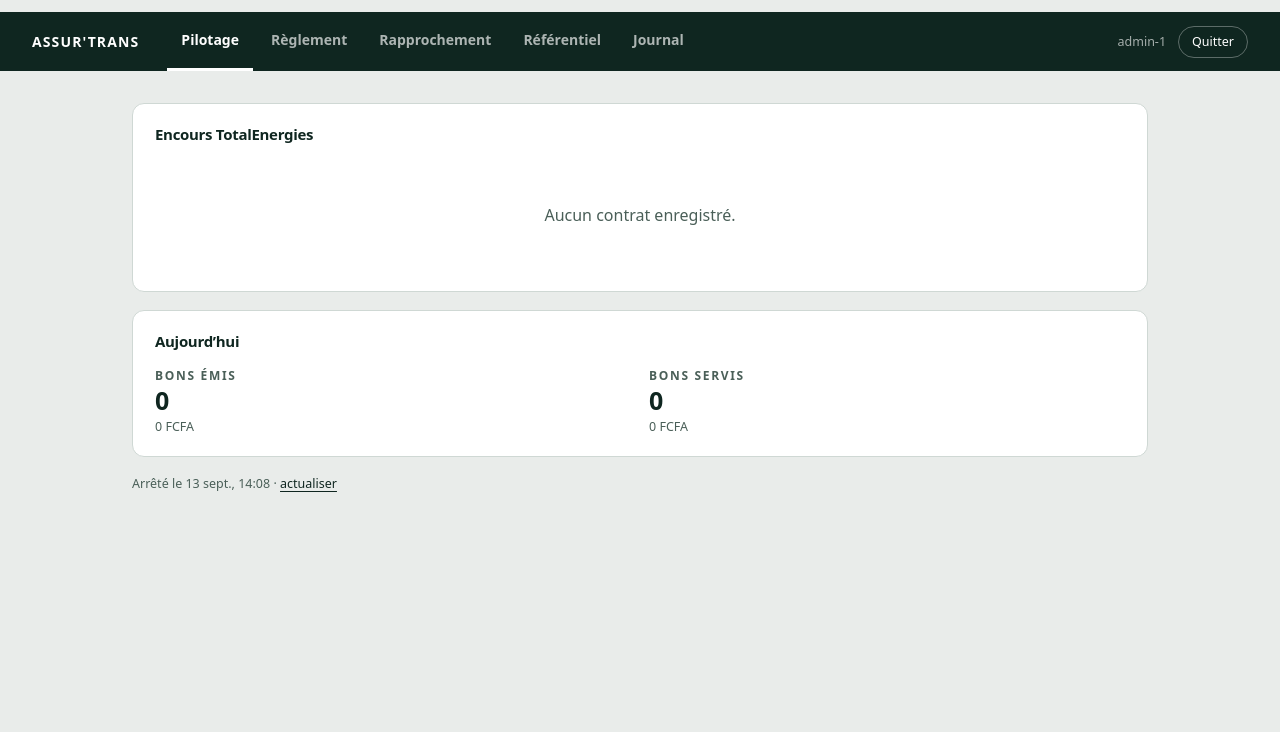
Test case: factures › ne propose pas de préparer une seconde fois tant qu’un règlement est vivant
Step 1. Click the button "Règlement" → (309, 42), box [257,12,361,71]
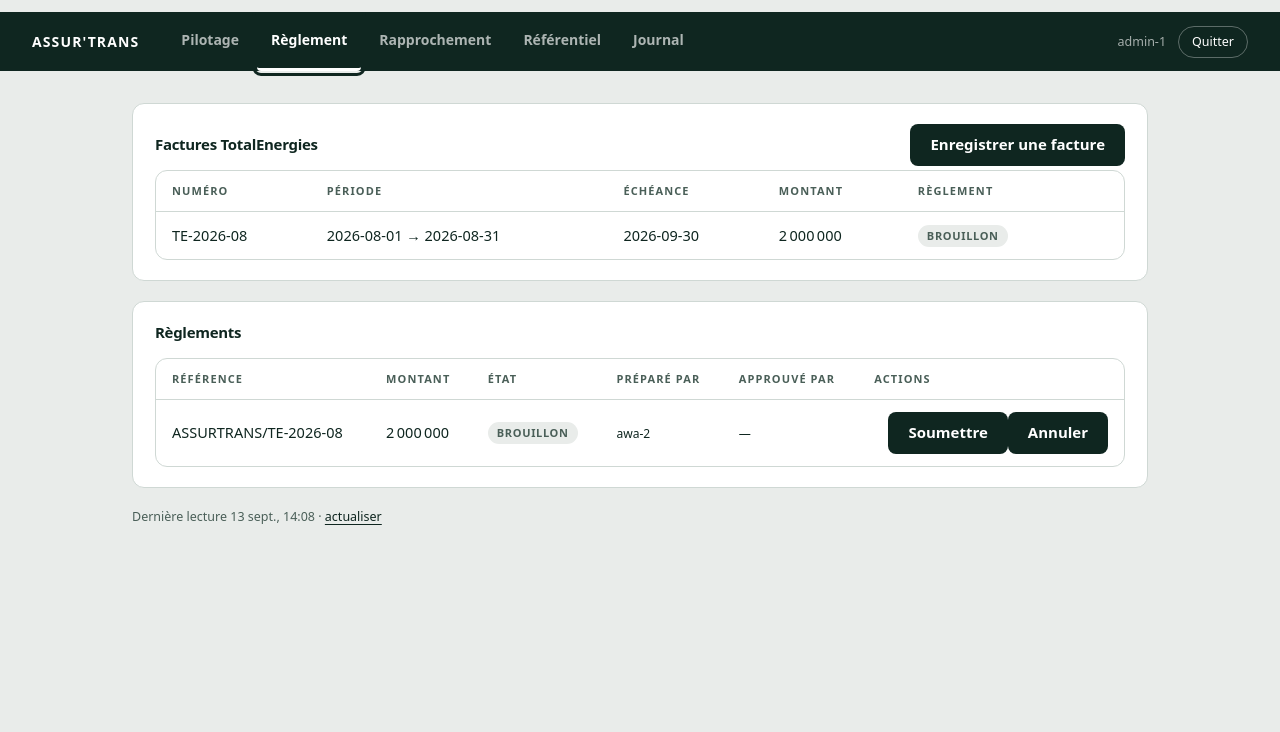
Expected: the text "TE-2026-08" is shown, [156,212,311,259]
